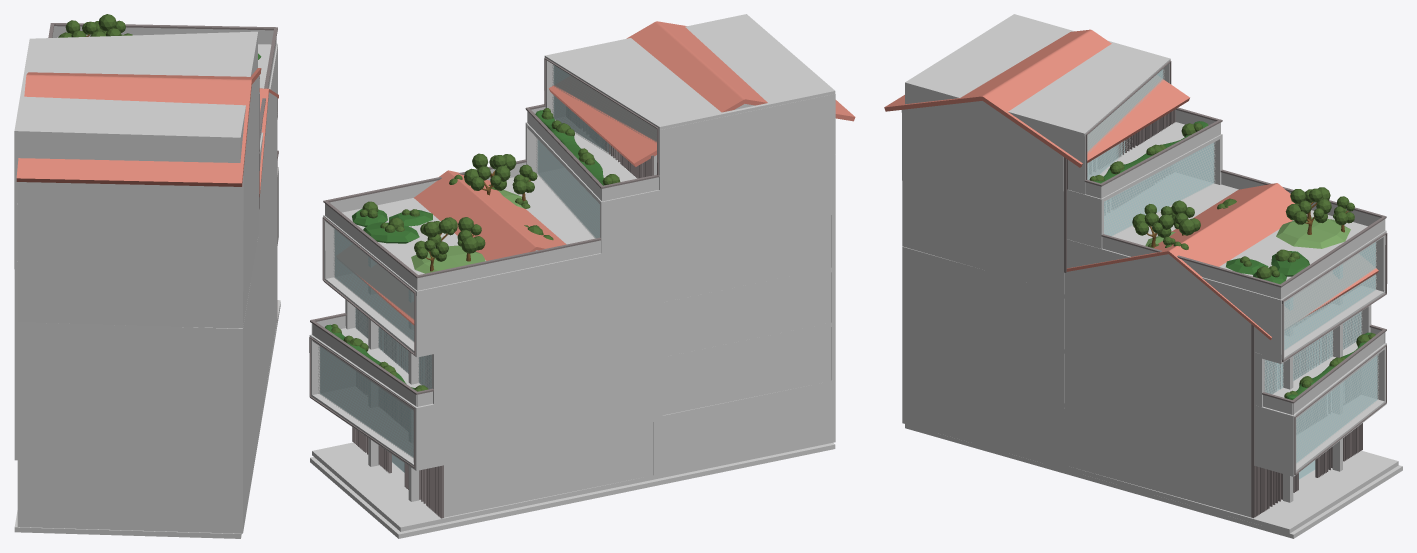
3 renders of one model, left to right at view 1: azimuth 30°, elevation 25°; view 2: azimuth 150°, elevation 25°; view 3: azimuth 270°, elevation 25°, orthographic. The views are drawn at different scales.
Visible parts, largest first — view 1: Object.1559, Object.1566, Object.2038, Object.1565, Object.2037, Object.1569, Object.1560, Object.1562, Object.1558, Object.1567, Object.2019, Object.2059 (+7 smaller); view 2: Object.2040, Object.2047, Object.2038, Object.2033, Object.2031, Object.2026, Object.1570, Object.2037, Object.1561, Object.1565, Object.1563, Object.1568 (+29 smaller); view 3: Object.1569, Object.1560, Object.1566, Object.2038, Object.1565, Object.1568, Object.1563, Object.2051, Object.2048, Object.2052, Object.2059, Object.2032 (+30 smaller).
Boxes of the visible parts, x1,y1,x2,y2 form: Object.1559: (22,325,238,528); Object.1566: (17,75,259,328); Object.2038: (14,31,258,140); Object.1565: (16,68,261,186); Object.2037: (14,37,257,201); Object.1569: (258,92,276,432); Object.1560: (238,242,258,528); Object.1562: (17,235,258,339); Object.1558: (17,350,272,533); Object.1567: (17,334,263,461); Object.2019: (14,510,241,538); Object.2059: (52,26,276,141); Object.2040: (662,215,831,415); Object.2047: (525,122,835,262); Object.2038: (544,14,835,129); Object.2033: (416,250,662,352); Object.2031: (413,362,662,466); Object.2026: (432,307,662,404); Object.1570: (444,250,653,517); Object.2037: (545,60,835,190); Object.1561: (653,262,835,475); Object.1565: (549,21,855,166); Object.1563: (312,438,835,531); Object.1568: (337,170,566,325); Object.1569: (1064,254,1251,517); Object.1560: (902,250,1064,464); Object.1566: (901,101,1064,292); Object.2038: (905,14,1170,136); Object.1565: (884,29,1189,167); Object.1568: (1066,183,1378,339); Object.1563: (902,419,1398,533); Object.2051: (1067,173,1386,304); Object.2048: (1104,142,1214,235); Object.2052: (1284,242,1375,349); Object.2059: (1102,172,1385,299); Object.2032: (1296,355,1377,462).
Size of the model in its own units: 2.44 by 2.2 by 2.91.
9 materials, 1 textured.
